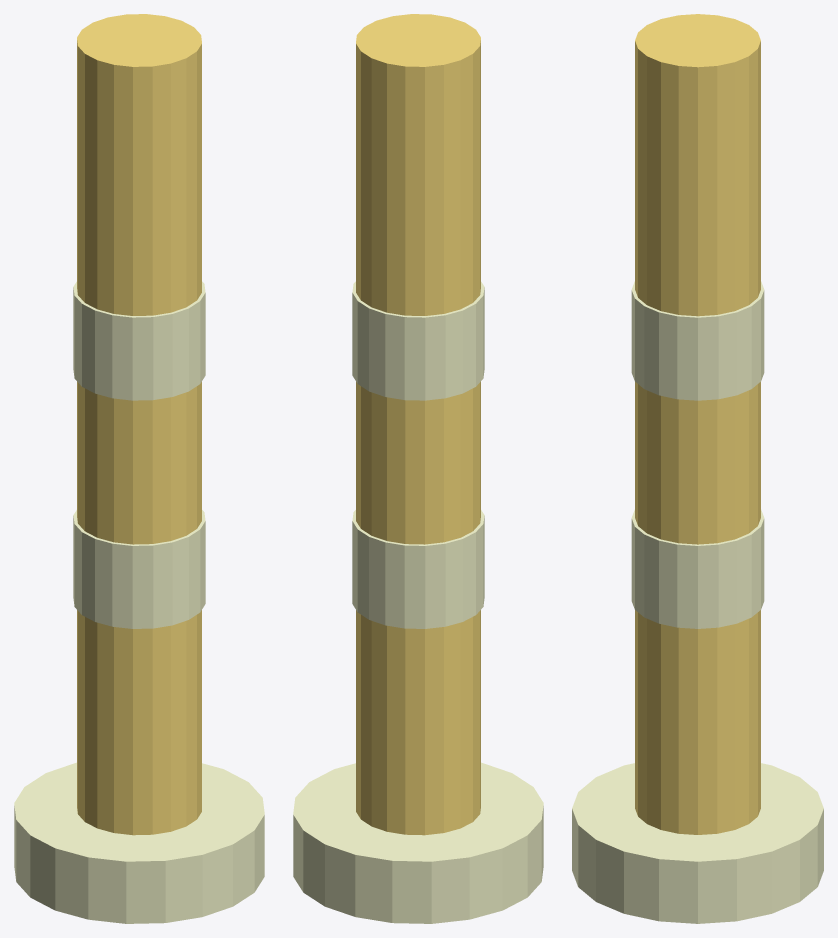
Rendered from furniture_bollard_flexible.glb.
3 renders of one model, left to right at view 1: azimuth 30°, elevation 25°; view 2: azimuth 150°, elevation 25°; view 3: azimuth 270°, elevation 25°, orthographic.
Parts seen in each view (by area): view 1: shaft, base, band_upper, band_lower; view 2: shaft, base, band_upper, band_lower; view 3: shaft, base, band_lower, band_upper.
Part boxes in pixels (<box>): shaft: <box>77,14,201,835</box>; base: <box>14,762,264,923</box>; band_upper: <box>73,281,205,400</box>; band_lower: <box>73,510,205,628</box>; shaft: <box>356,14,480,835</box>; base: <box>293,762,543,923</box>; band_upper: <box>352,281,484,400</box>; band_lower: <box>352,510,484,628</box>; shaft: <box>635,14,760,834</box>; base: <box>572,763,823,923</box>; band_lower: <box>631,509,764,628</box>; band_upper: <box>631,281,764,400</box>.
Size of the model in its own units: 0.22 by 0.8 by 0.22.
